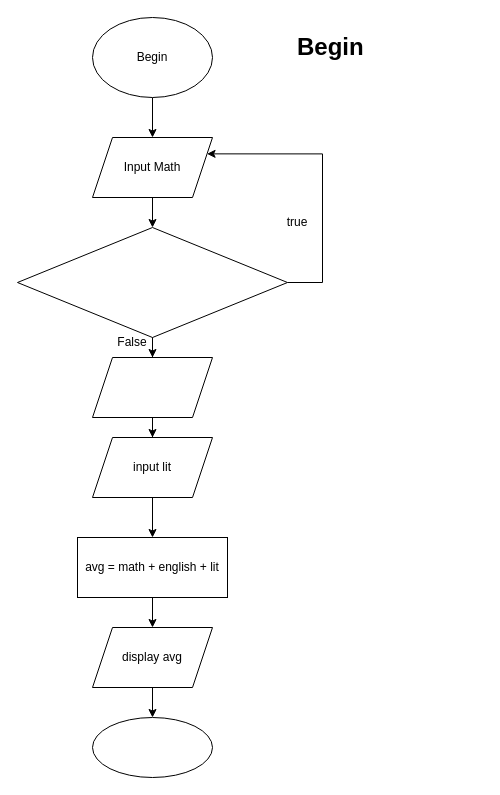
The diagram is 500 pixels wide and 795 high, and some of its shapes have lost their labels. The box of each missing label's shape, as (x1, y1, x2, y2) in pixels:
End: (92, 716, 212, 778)
if math < 0 or math >10 or math is a word: (16, 226, 288, 338)
input English: (92, 356, 212, 418)
